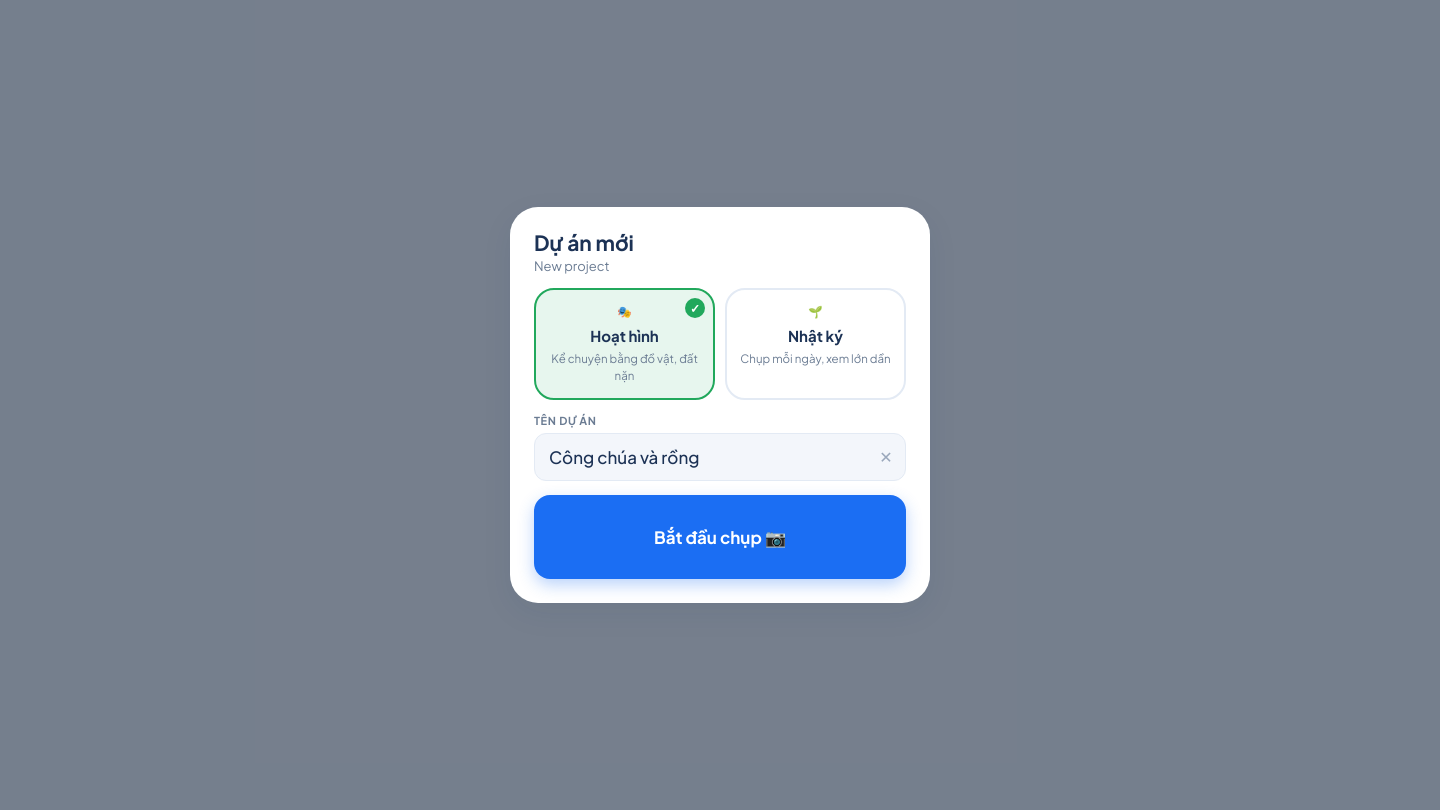
Test: NewProjectSheet — mặc định + chọn thể loại (AC2) › bấm 🌱 Nhật ký → chọn diary, tên đổi sang pool diary, hint 🌱 hiện ra
The width and height of the screenshot is (1440, 810).
Step 1. Click the button with test id "new-project-type-diary" → click(816, 344), box [725,288,906,400]
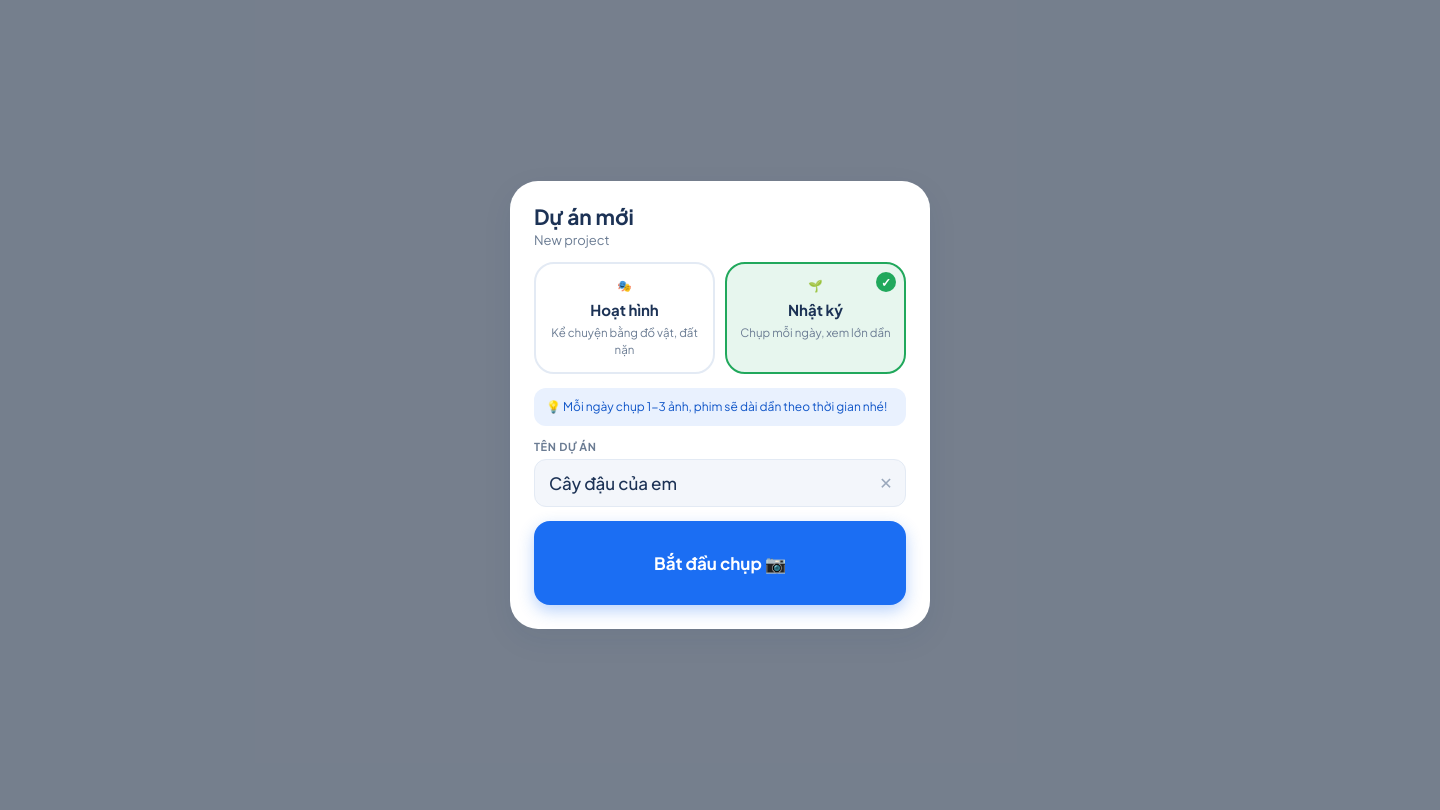
Now the text "💡 Mỗi ngày chụp 1-3 ảnh, phim sẽ dài dần theo thời gian nhé!" is shown, box [534,388,906,426]
